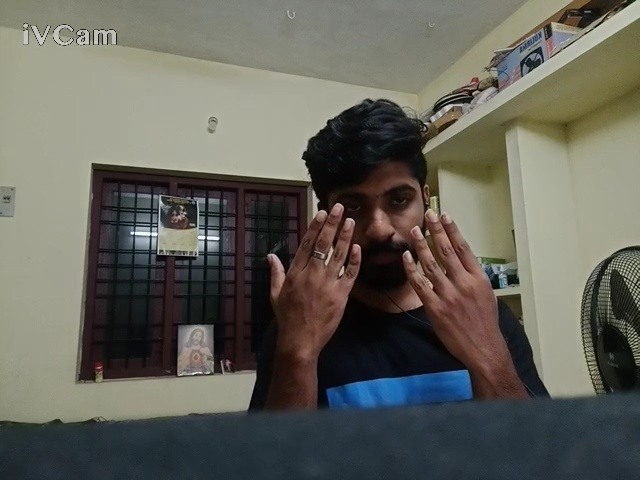Thank You: (234, 194, 519, 480)
